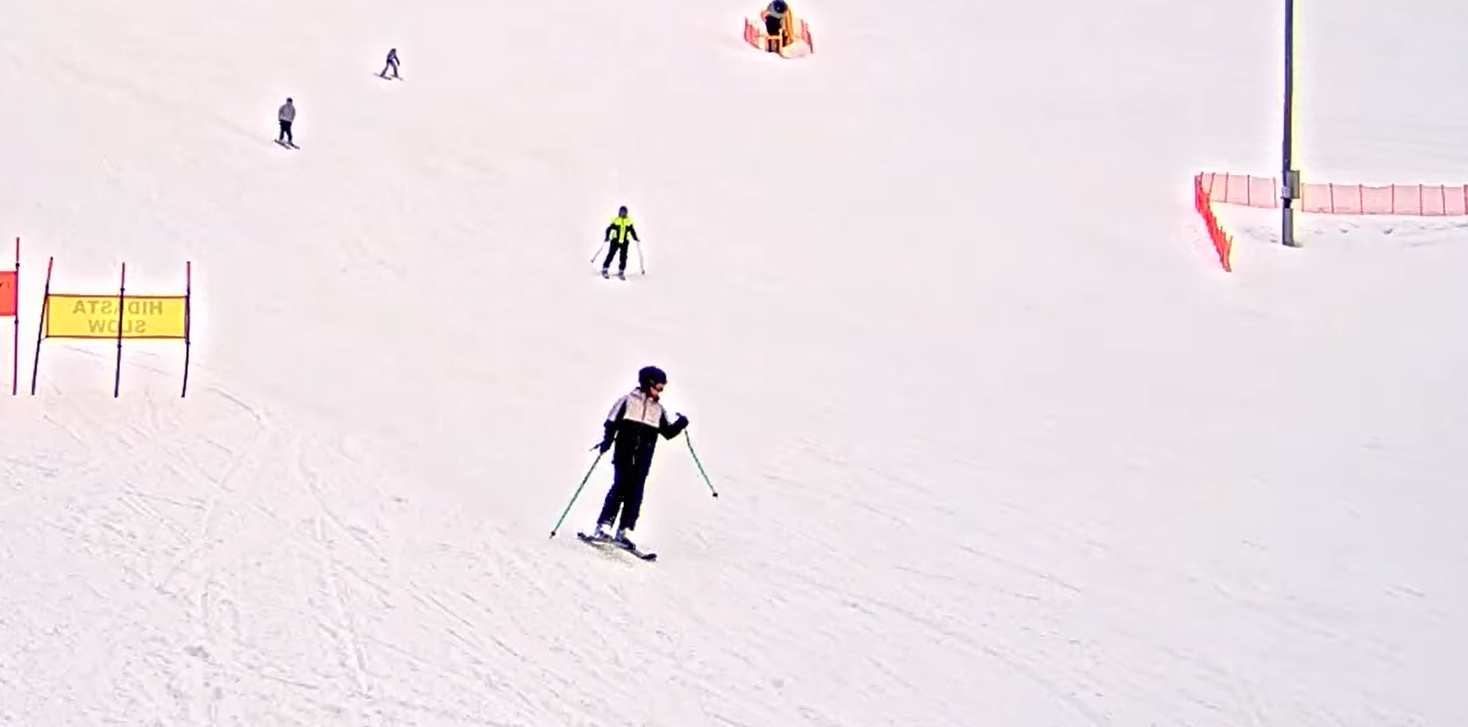skier: (548, 365, 722, 563), (587, 202, 645, 280), (274, 92, 301, 151), (372, 47, 405, 81)
